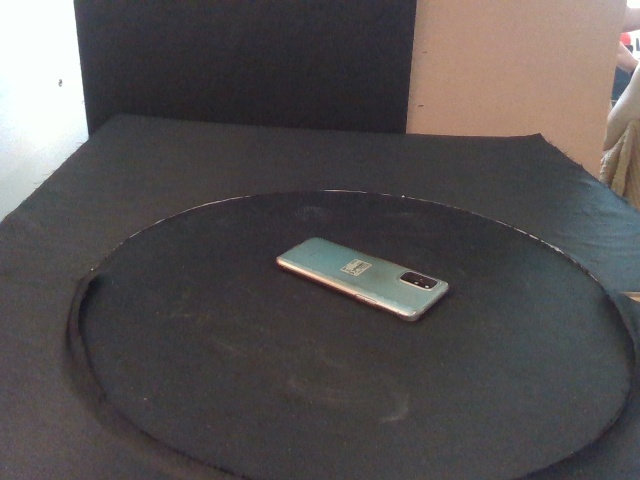phone: (275, 237, 452, 325)
